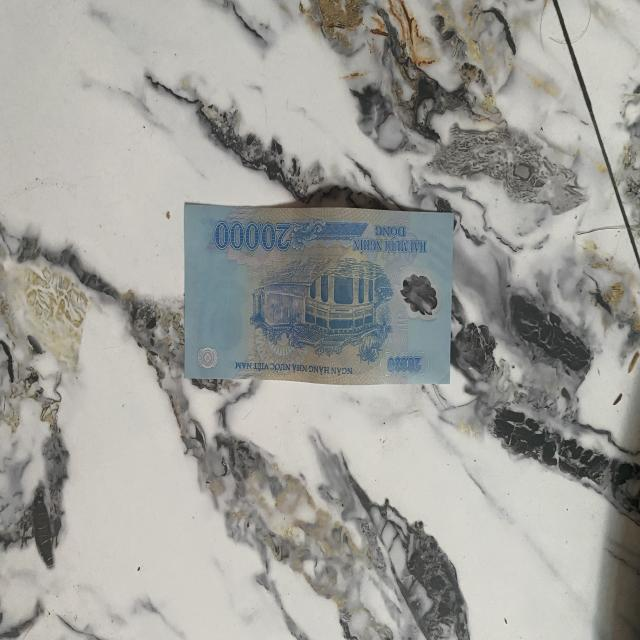20 000 VND: (183, 200, 456, 388)
